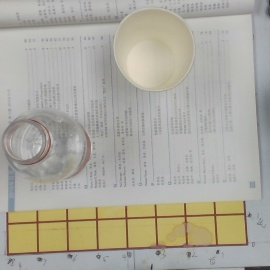bottle: (4, 112, 109, 182)
cup: (113, 6, 197, 93)
